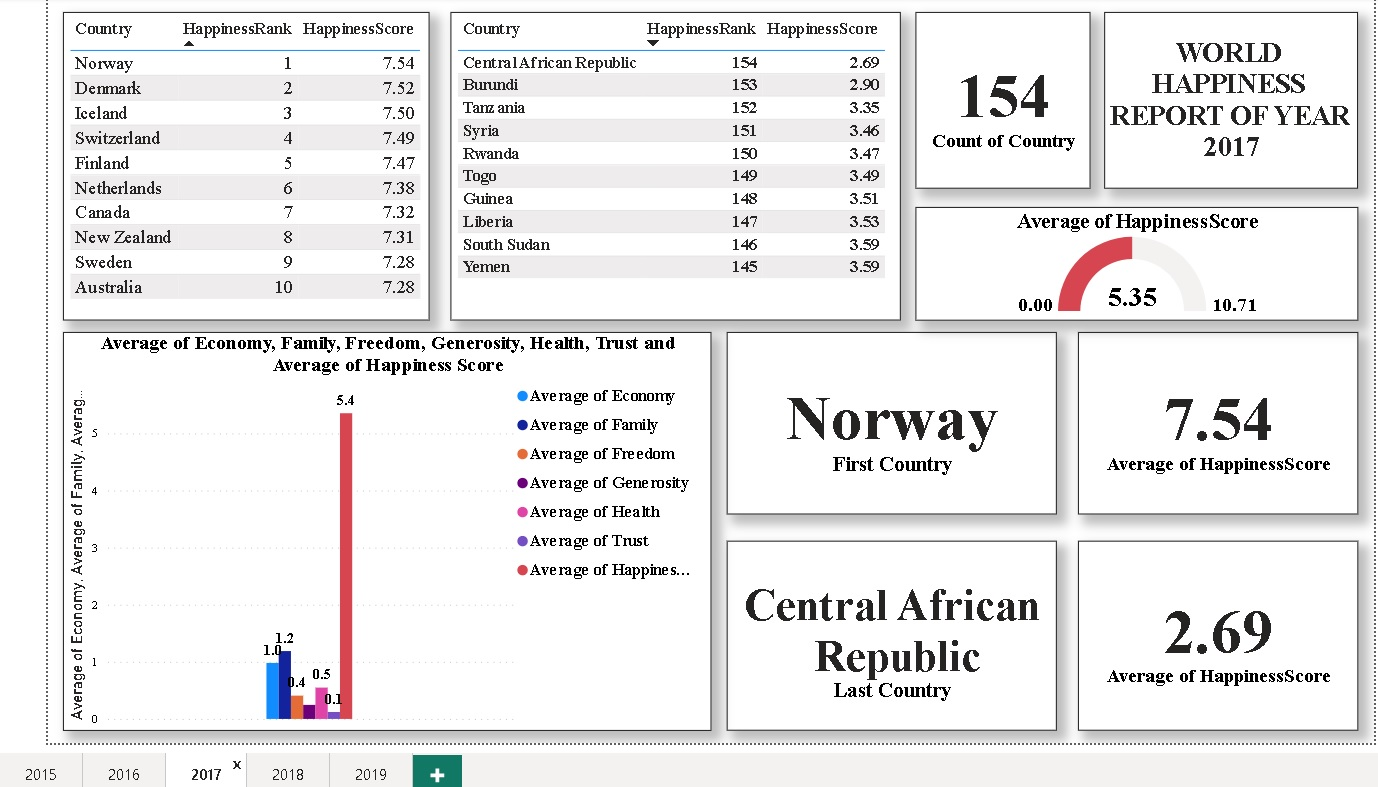

Layout of this report page (visuals, bound fields, positions):
{"tool":"powerbi","page":{"name":"2017","canvas":[1280,720],"ordinal":2},"visuals":[{"type":"tableEx","fields":{"Values":["processedhwr2017.Country","processedhwr2017.HappinessRank","processedhwr2017.HappinessScore"]},"box":[14.5,14.5,353.4,297.9],"z":0},{"type":"tableEx","fields":{"Values":["processedhwr2017.Country","processedhwr2017.HappinessRank","processedhwr2017.HappinessScore"]},"box":[388.3,14.5,434.2,297.9],"z":1000},{"type":"card","fields":{"Values":["Count(processedhwr2017.Country)"]},"box":[837,14.5,168.8,170.1],"z":2000},{"type":"card","fields":{"Values":["Min(processedhwr2017.Country)"]},"box":[654.9,323.2,318.4,176.1],"z":3000},{"type":"card","fields":{"Values":["Max(processedhwr2017.Country)"]},"box":[654.9,524.6,318.4,183.3],"z":4000},{"type":"card","fields":{"Values":["Avg(processedhwr2017.HappinessScore)"]},"box":[993.8,323.2,270.2,176.1],"z":5000},{"type":"card","fields":{"Values":["Avg(processedhwr2017.HappinessScore)"]},"box":[993.8,524.6,270.2,183.3],"z":6000},{"type":"gauge","fields":{"Y":["Avg(processedhwr2017.HappinessScore)"]},"box":[837,202.6,426.9,109.7],"z":7000},{"type":"clusteredColumnChart","title":"Average of Economy, Family, Freedom, Generosity, Health, Trust and Average of Happiness Score","fields":{"Y":["Avg(processedhwr2017.Economy)","Avg(processedhwr2017.Family)","Avg(processedhwr2017.Freedom)","Avg(processedhwr2017.Generosity)","Avg(processedhwr2017.Health)","Avg(processedhwr2017.Trust)","Avg(processedhwr2017.HappinessScore)"]},"box":[14.5,323.2,625.9,384.7],"z":8000},{"type":"textbox","box":[1019.1,14.5,244.8,170.1],"z":9000}]}

Visuals, with their boxes in screenshot pixels (x1, y1, x2, y2):
tableEx - processedhwr2017.Country x processedhwr2017.HappinessRank: region(72, 15, 434, 320)
tableEx - processedhwr2017.Country x processedhwr2017.HappinessRank: region(455, 15, 900, 320)
card - Count(processedhwr2017.Country): region(915, 15, 1087, 189)
card - Min(processedhwr2017.Country): region(728, 331, 1054, 511)
card - Max(processedhwr2017.Country): region(728, 537, 1054, 725)
card - Avg(processedhwr2017.HappinessScore): region(1075, 331, 1352, 511)
card - Avg(processedhwr2017.HappinessScore): region(1075, 537, 1352, 725)
gauge - Avg(processedhwr2017.HappinessScore): region(915, 207, 1352, 320)
"Average of Economy, Family, Freedom, Generosity, Health, Trust and Average of Happiness Score" clusteredColumnChart: region(72, 331, 713, 725)
textbox: region(1101, 15, 1352, 189)
